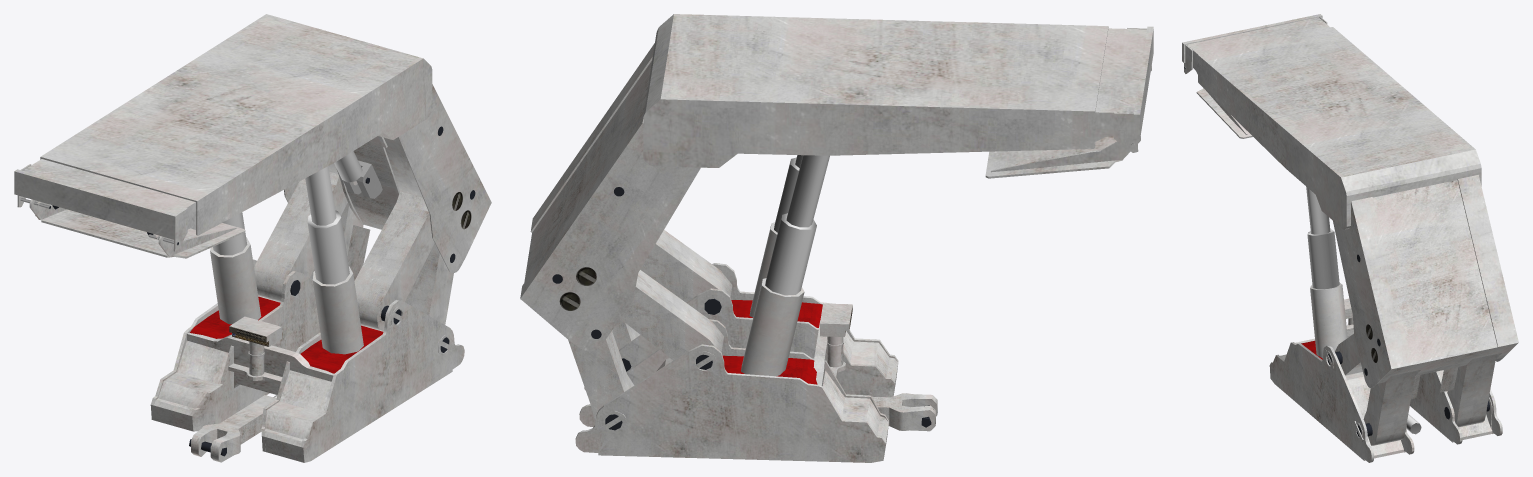
Rendered from yyzj.obj.
The picture shows the model from 3 angles, left to right: view 1: azimuth 30°, elevation 25°; view 2: azimuth 150°, elevation 25°; view 3: azimuth 270°, elevation 25°; orthographic projection. The views are drawn at different scales.
Parts seen in each view (by area): view 1: ______________047; view 2: ______________047; view 3: ______________047.
Boxes of the visible parts, x1=… form: ______________047: x1=14, y1=14, x2=491, y2=462; ______________047: x1=520, y1=14, x2=1153, y2=462; ______________047: x1=1182, y1=14, x2=1518, y2=462.
Bounding box in the file's own units: 4.75 × 2.92 × 3.33.
